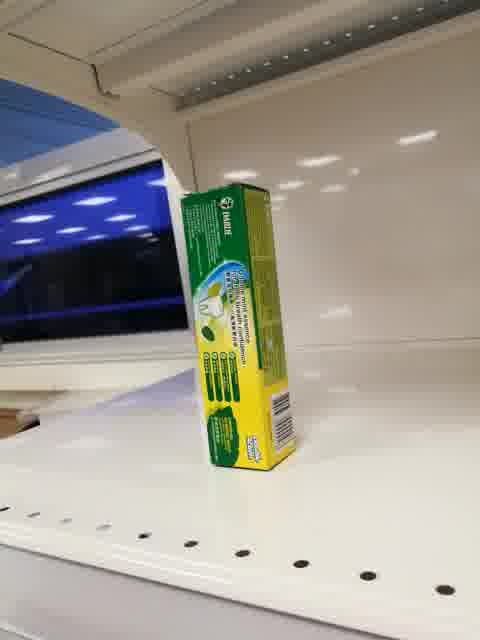toothpaste: (179, 181, 299, 472)
